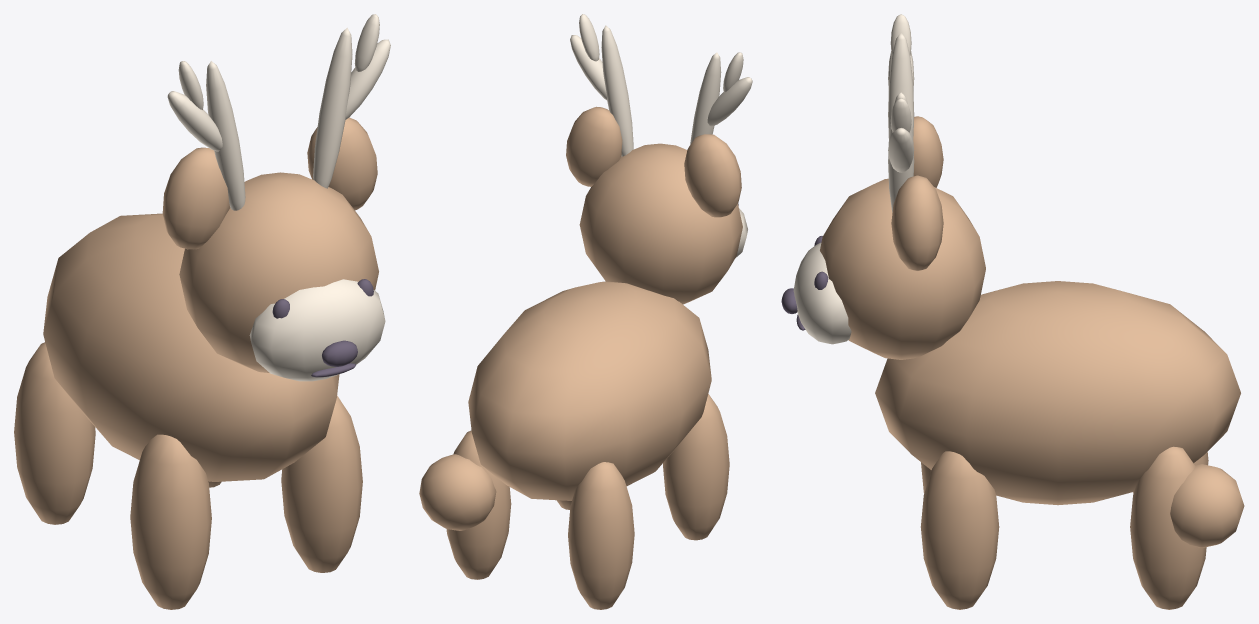
File: deer-hope.glb
The picture shows the model from 3 angles, left to right: view 1: azimuth 30°, elevation 25°; view 2: azimuth 150°, elevation 25°; view 3: azimuth 270°, elevation 25°; orthographic projection. The views are drawn at different scales.
Visible parts, largest first — view 1: deer hope offline illustration; view 2: deer hope offline illustration; view 3: deer hope offline illustration.
Boxes of the visible parts, <box> form: deer hope offline illustration: <box>14,14,390,609</box>; deer hope offline illustration: <box>419,14,752,609</box>; deer hope offline illustration: <box>781,14,1244,609</box>.
Size of the model in its own units: 0.3746 by 0.8779 by 0.708.
